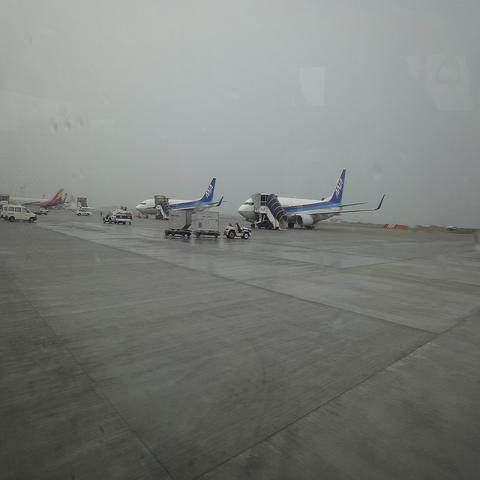car: (0, 204, 8, 221), (76, 209, 89, 217)
truck: (164, 208, 193, 238), (194, 210, 222, 238), (7, 206, 37, 222)
